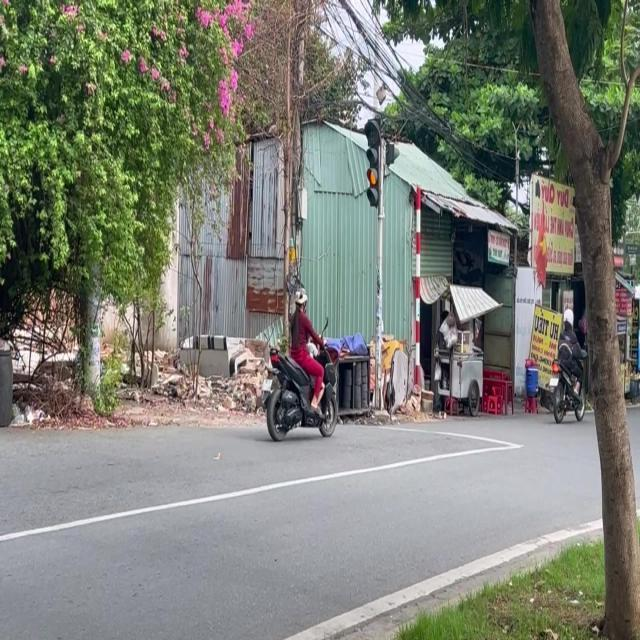yellow_light: (264, 288, 336, 439), (362, 117, 379, 205)
